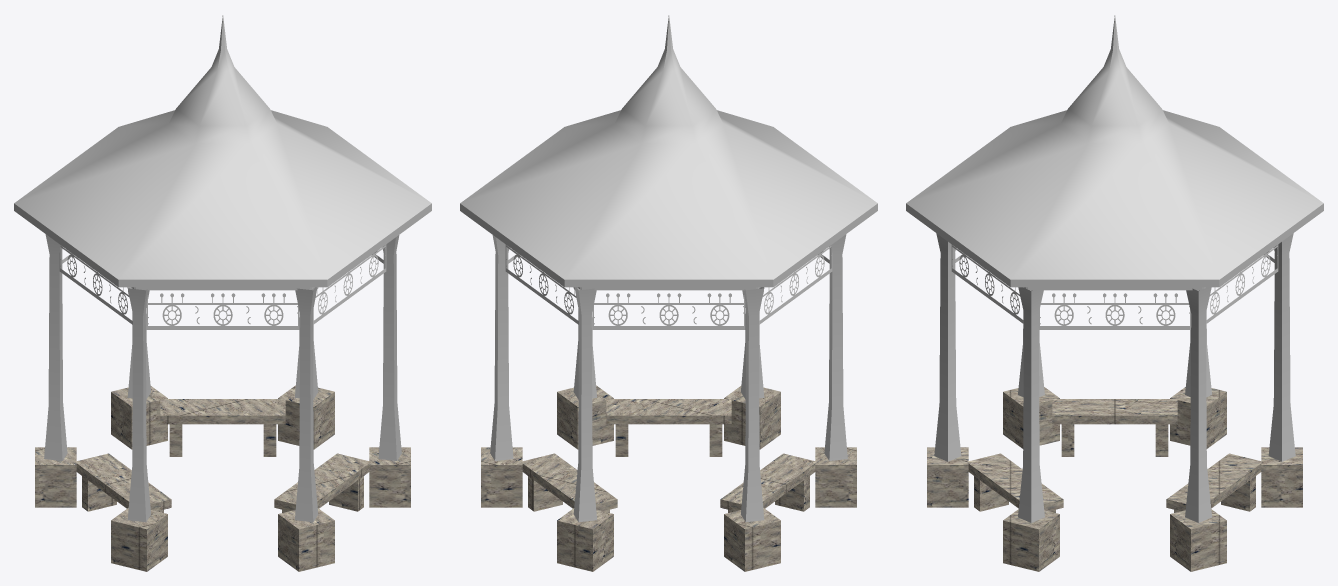
File: SM_Morin_Gazebo_LOD2.fbx
3 renders of one model, left to right at view 1: azimuth 30°, elevation 25°; view 2: azimuth 150°, elevation 25°; view 3: azimuth 270°, elevation 25°, orthographic.
Parts seen in each view (by area): view 1: SM_Morin_Gazebo_LOD2; view 2: SM_Morin_Gazebo_LOD2; view 3: SM_Morin_Gazebo_LOD2.
Boxes of the visible parts, left/top/right/bottom form: SM_Morin_Gazebo_LOD2: left=14, top=15, right=431, bottom=571; SM_Morin_Gazebo_LOD2: left=460, top=15, right=877, bottom=571; SM_Morin_Gazebo_LOD2: left=906, top=15, right=1323, bottom=571.
Size of the model in its own units: 346 by 400 by 512.
3 materials, 1 textured.
